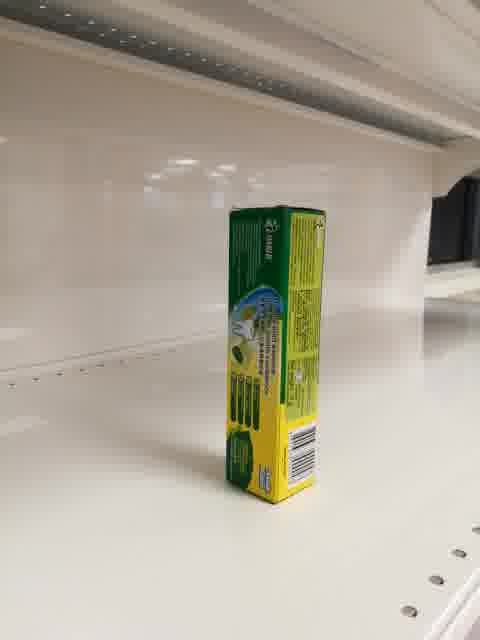toothpaste: (227, 205, 327, 506)
